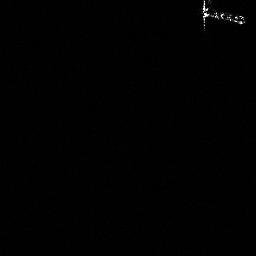ship: (200, 1, 247, 32)
